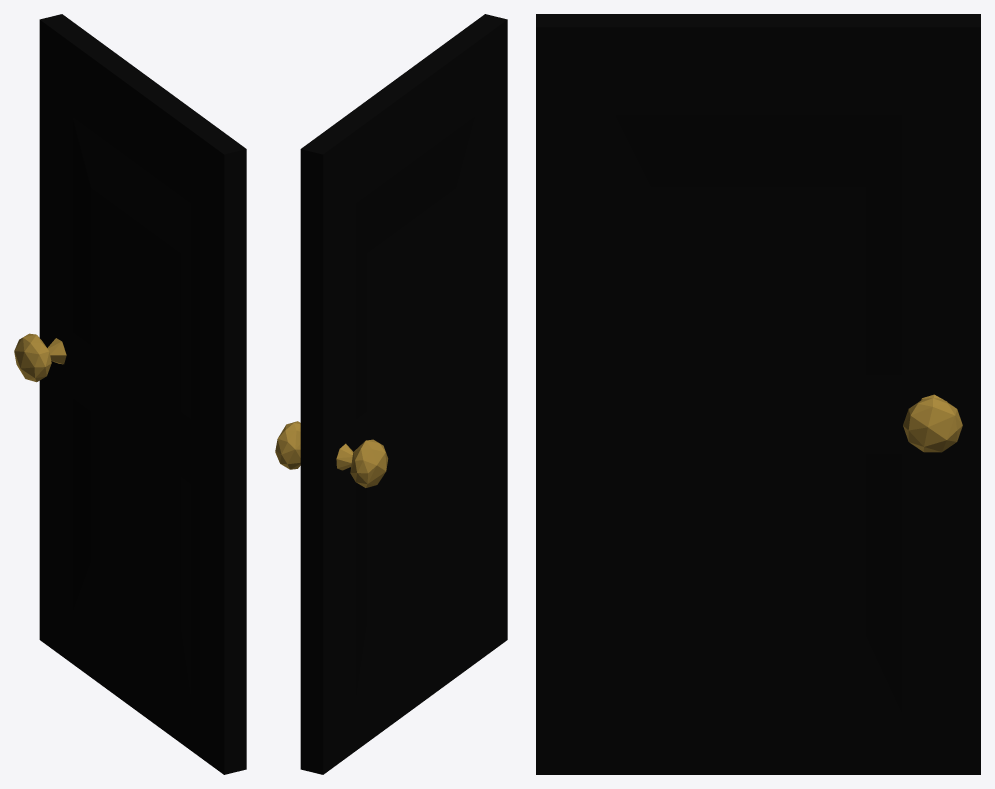
Rendered from SM_Your_Door.fbx.
3 views of the same model, side by side, from view 1: azimuth 30°, elevation 25°; view 2: azimuth 150°, elevation 25°; view 3: azimuth 270°, elevation 25° (orthographic). The views are drawn at different scales.
Visible parts, largest first — view 1: Your_Door; view 2: Your_Door; view 3: Your_Door.
Part boxes in pixels (x1,y1,x2,y2): Your_Door: (14,14,246,774); Your_Door: (275,14,507,774); Your_Door: (536,14,980,774).
Size of the model in its own units: 40.13 by 227 by 122.
